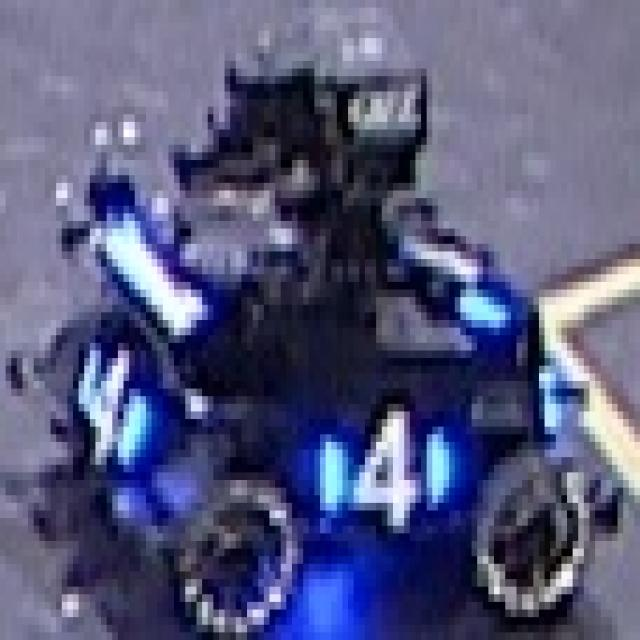B4: (314, 396, 455, 534), (73, 336, 152, 472)
